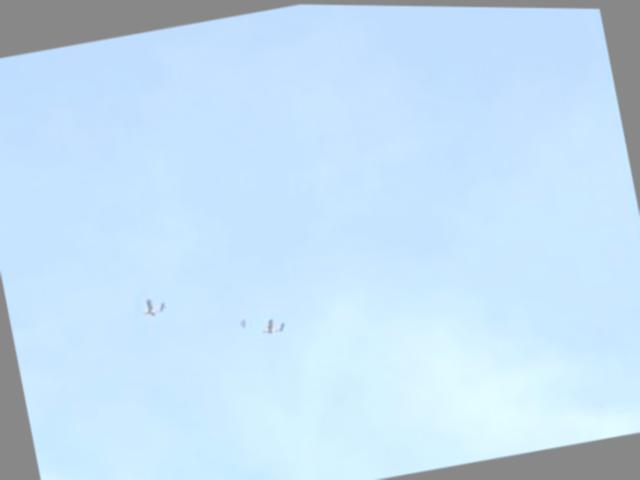uav: (260, 310, 290, 336), (138, 292, 166, 318)
